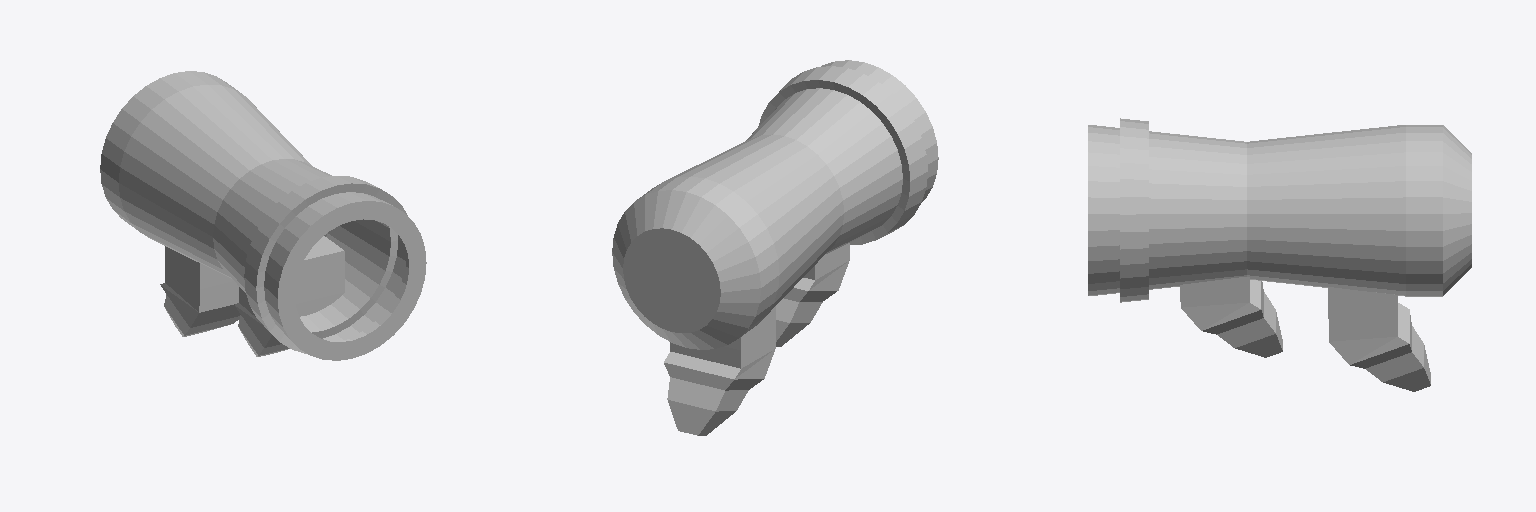
The model's file is Gun.obj.
3 renders of one model, left to right at view 1: azimuth 30°, elevation 25°; view 2: azimuth 150°, elevation 25°; view 3: azimuth 270°, elevation 25°, orthographic.
Parts seen in each view (by area): view 1: Cylinder_Cylinder.001, Cube.001_Cube.002, Cube_Cube.001; view 2: Cylinder_Cylinder.001, Cube.001_Cube.002, Cube_Cube.001; view 3: Cylinder_Cylinder.001, Cube.001_Cube.002, Cube_Cube.001.
Boxes of the visible parts, box(x1,y1,x2,y2) form: Cylinder_Cylinder.001: box(100, 71, 426, 360); Cube.001_Cube.002: box(160, 246, 240, 336); Cube_Cube.001: box(235, 236, 344, 356); Cylinder_Cylinder.001: box(612, 60, 938, 349); Cube.001_Cube.002: box(664, 306, 775, 435); Cube_Cube.001: box(776, 243, 849, 346); Cylinder_Cylinder.001: box(1088, 118, 1471, 302); Cube.001_Cube.002: box(1328, 287, 1430, 391); Cube_Cube.001: box(1180, 277, 1282, 357).
Size of the model in its own units: 2.14 by 3.31 by 4.46.